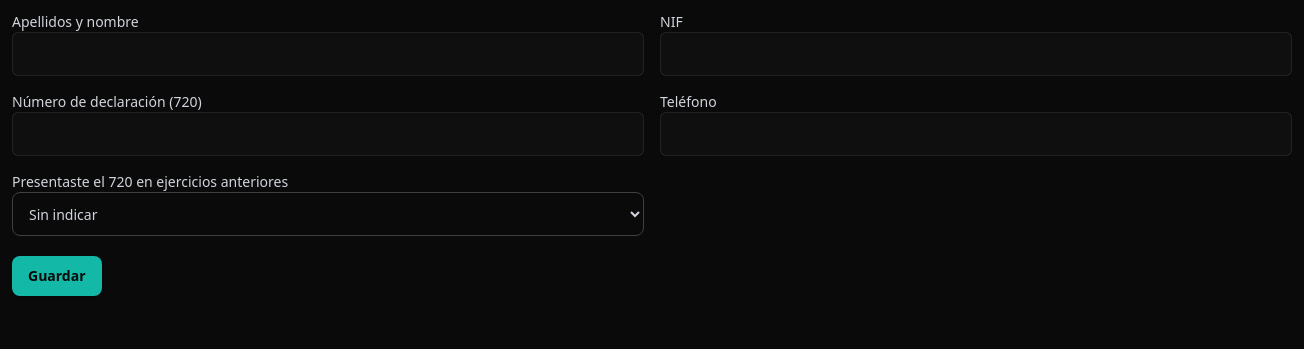
Test case: TaxDeclarantForm: nombre accesible del campo NIF › el aviso suave no se cuela en el nombre accesible (sigue siendo «NIF»)
Type "12345678A" into the field labelled "NIF" at (976, 54), box [660,32,1292,76]
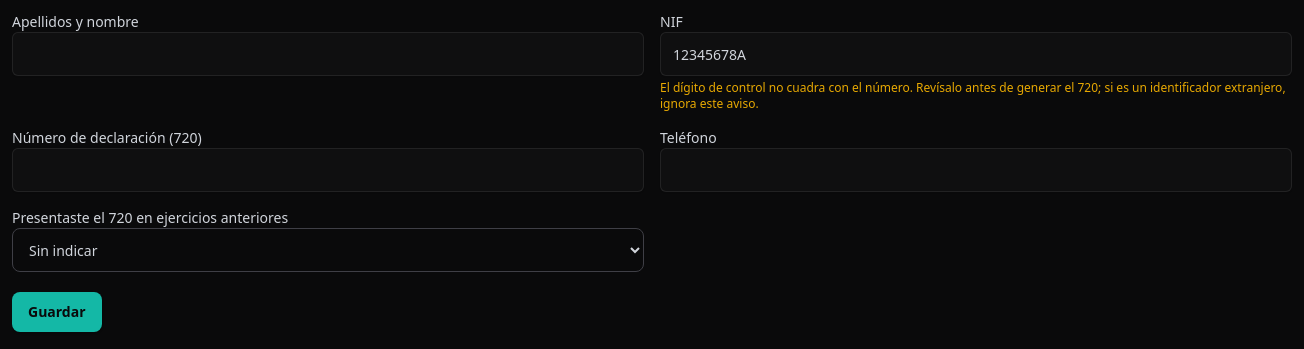
expect the message shows "dígito de control": met, box [660,79,1286,112]
